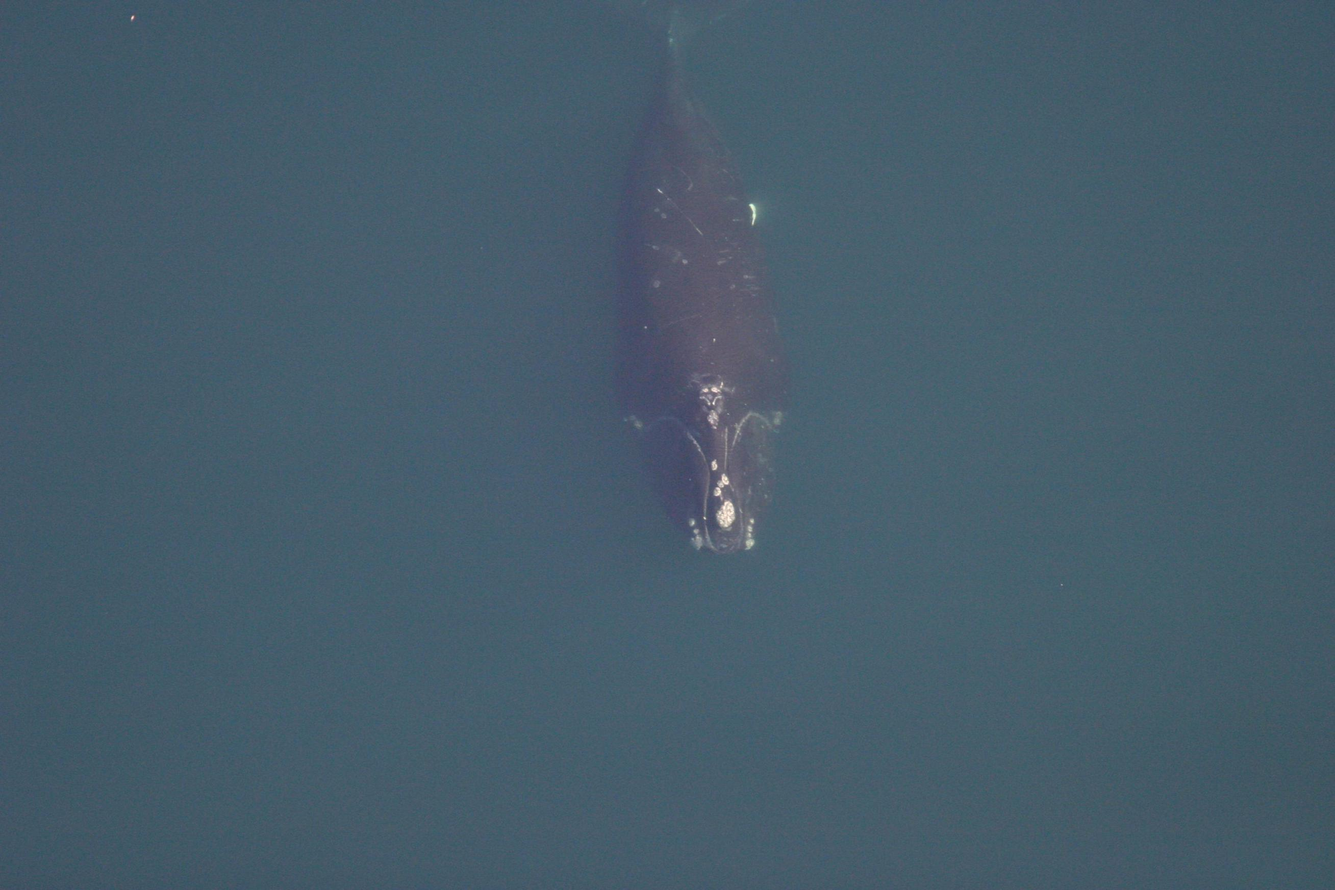whale: (593, 0, 801, 564)
